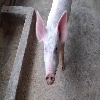heo: (34, 8, 67, 88)
